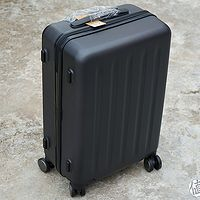suitcase: (37, 4, 171, 197)
